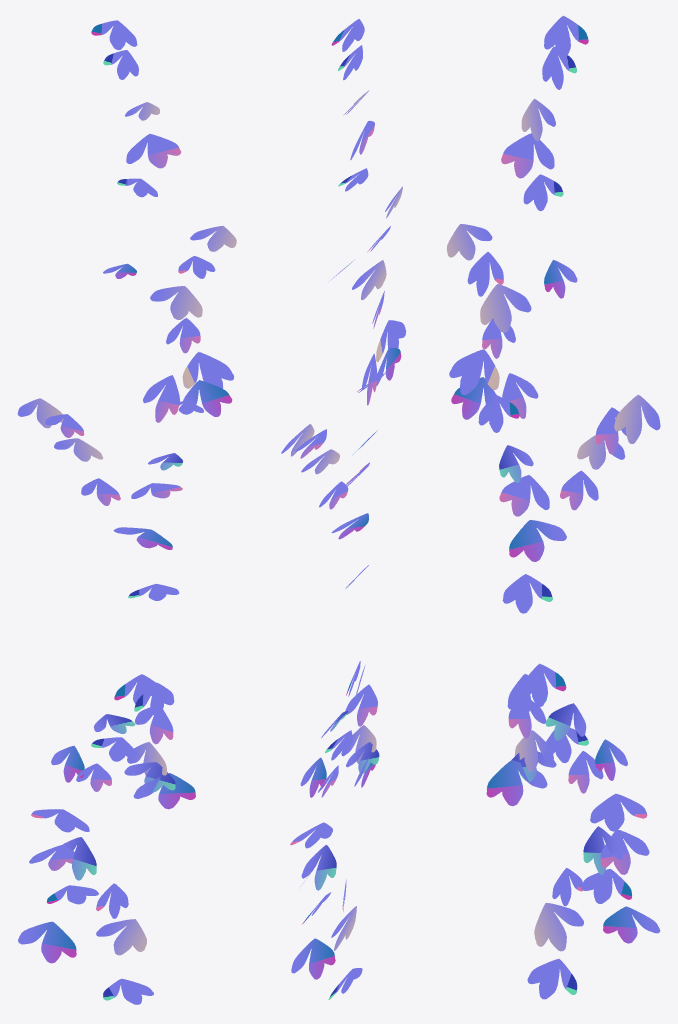
The model's file is SM_ivy_l_straight_B_LOD1.fbx.
The picture shows the model from 3 angles, left to right: view 1: azimuth 90°, elevation 25°; view 2: azimuth 150°, elevation 25°; view 3: azimuth 270°, elevation 25°; orthographic projection. The views are drawn at different scales.
Parts seen in each view (by area): view 1: SM_ivy_l_straight_B_LOD1; view 2: SM_ivy_l_straight_B_LOD1; view 3: SM_ivy_l_straight_B_LOD1.
Boxes of the visible parts, bbox=[...] form: SM_ivy_l_straight_B_LOD1: bbox=[17, 20, 236, 1004]; SM_ivy_l_straight_B_LOD1: bbox=[281, 19, 406, 999]; SM_ivy_l_straight_B_LOD1: bbox=[446, 16, 660, 999].
Size of the model in its own units: 38.8 by 860 by 178.
